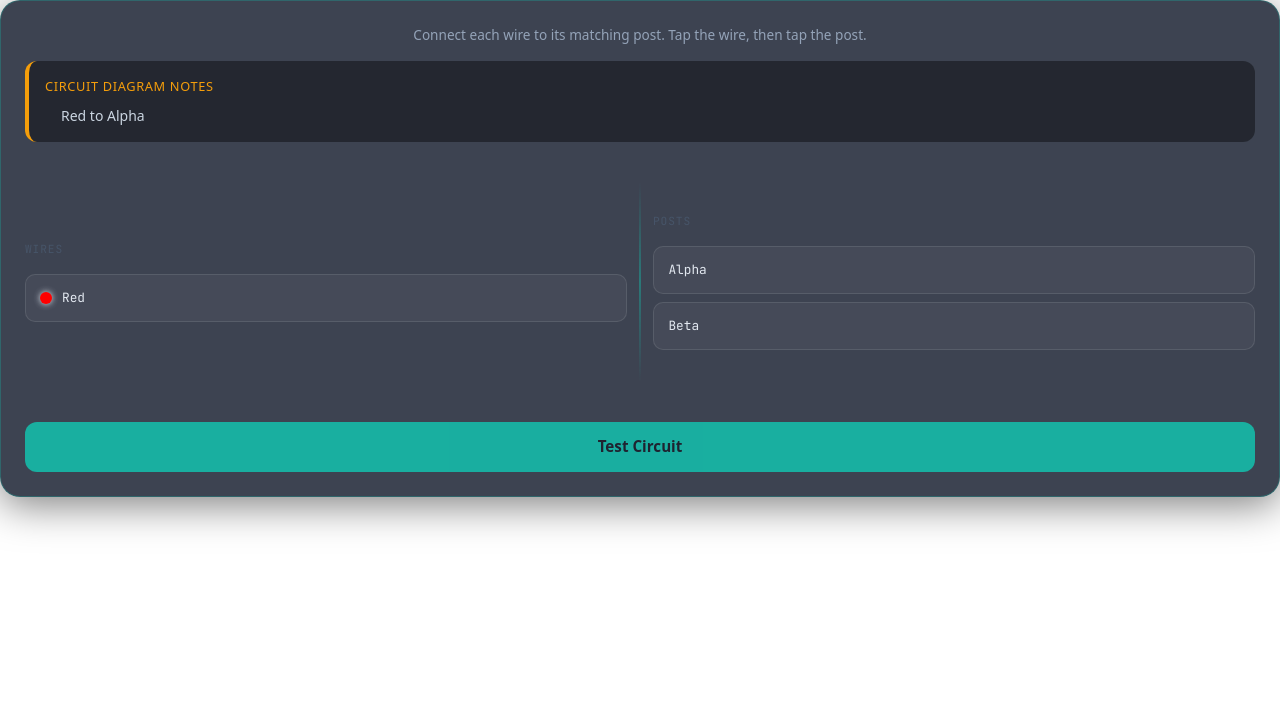
Test case: FuseBoxPuzzle › solves when circuit is correct
Click the button with aria-label "Red wire": (46, 298) [25,274,627,322]
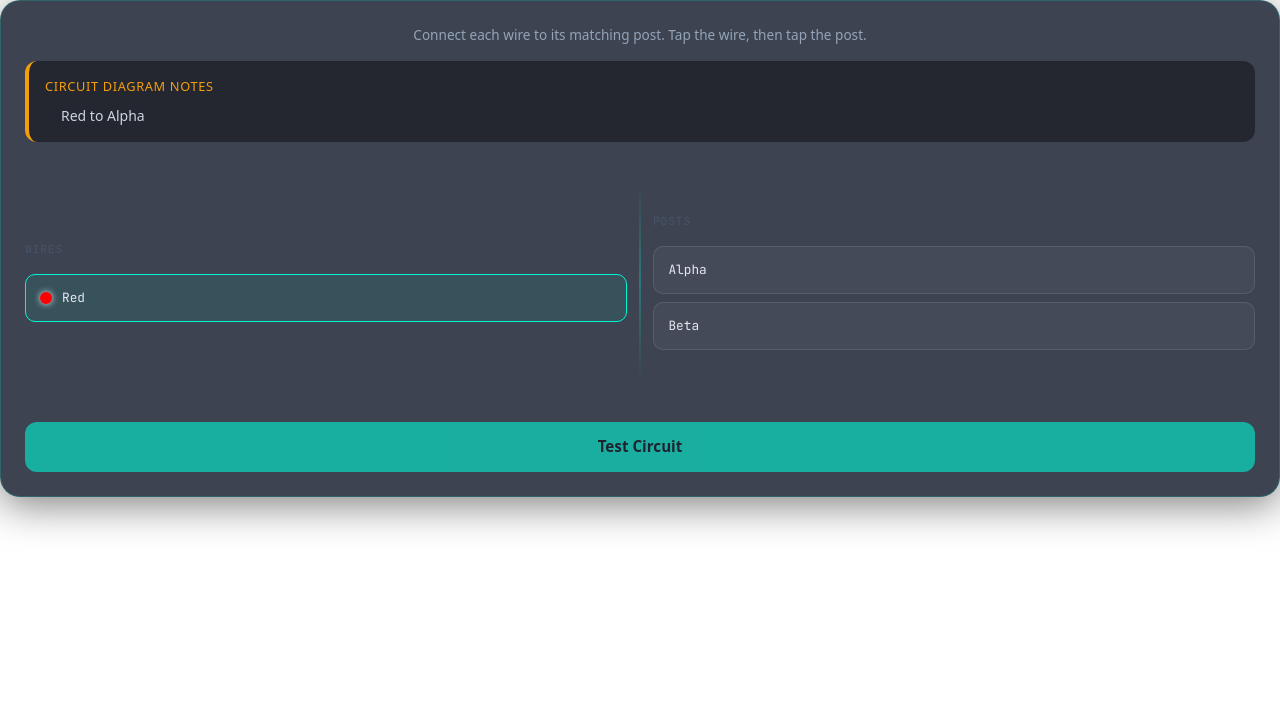
Click the button with aria-label "Post Alpha — empty": (688, 270) [653,246,1255,294]
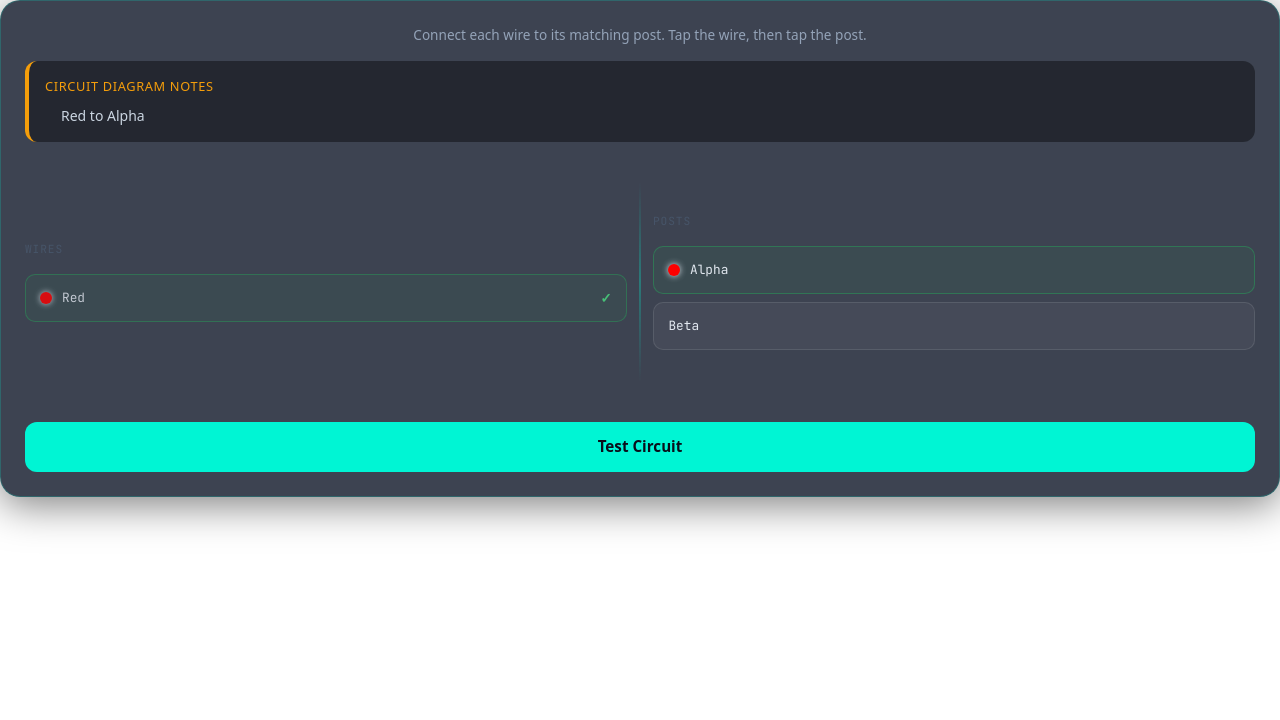
// Click test circuit
Click the button "Test Circuit": (640, 447) [25,422,1255,472]
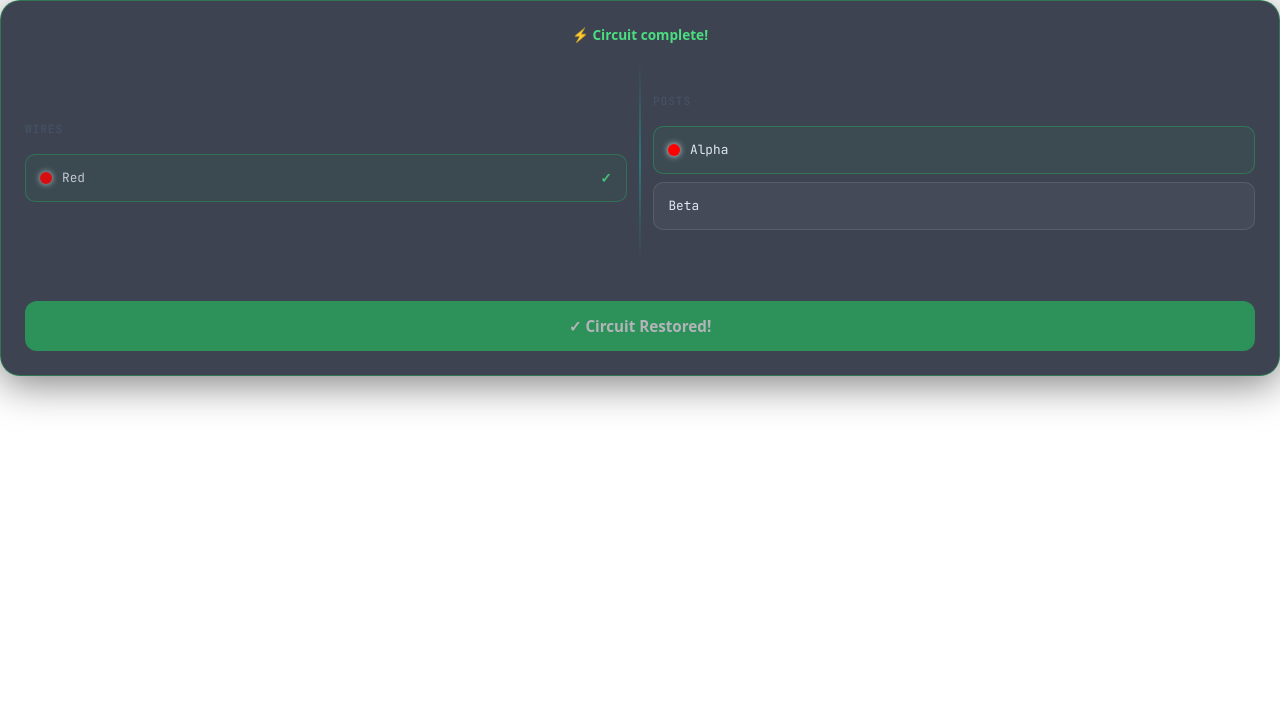
Expected: the button "✓ Circuit Restored!" is shown, [25,301,1255,351]
